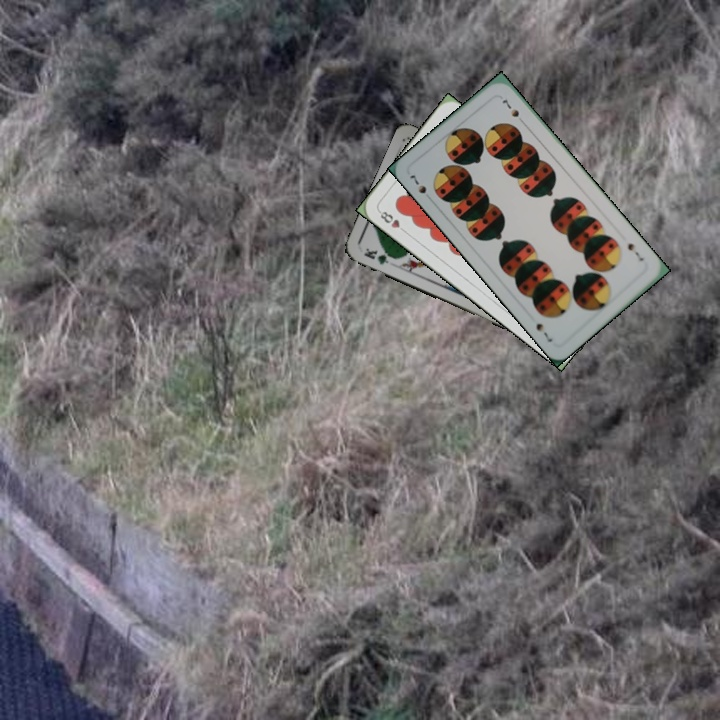GK: (360, 244, 399, 267)
H8: (375, 206, 409, 236)
S7: (405, 169, 429, 196), (623, 239, 646, 264)
